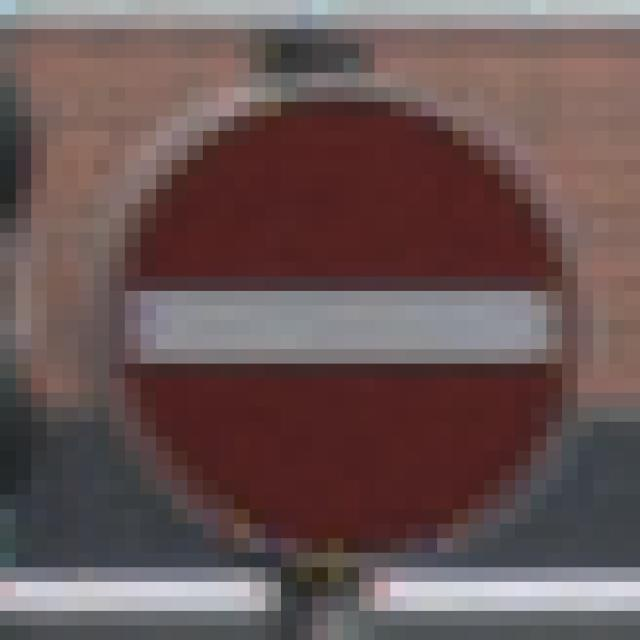No Entry: (79, 89, 563, 569)
